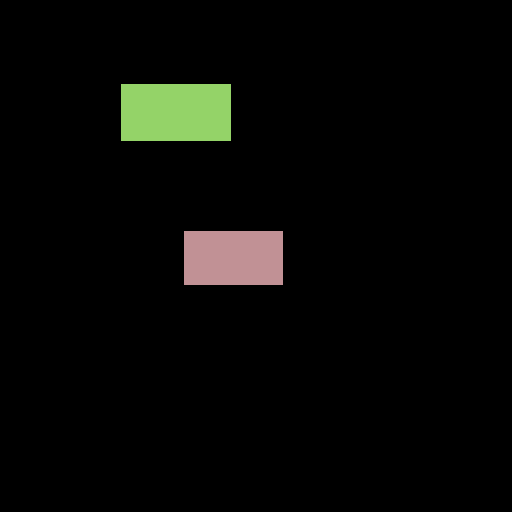rectangle: (121, 84, 230, 140), (184, 231, 282, 284)
